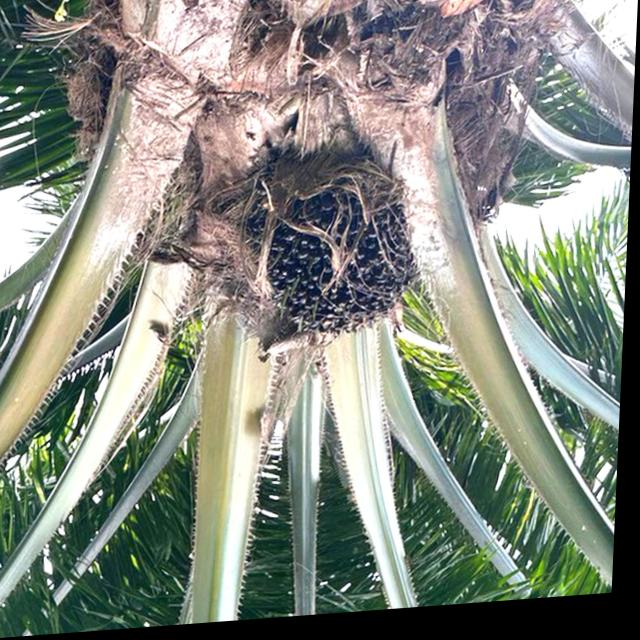unripe: (236, 148, 425, 356)
